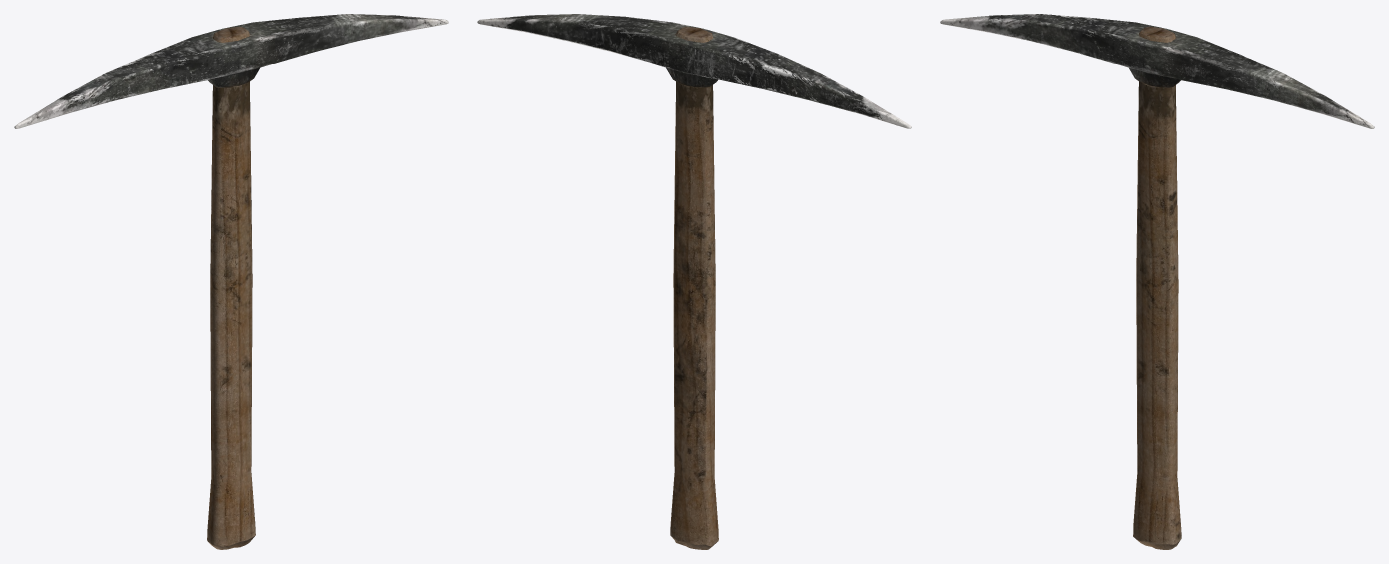
The model's file is basicpickaxe_fbx.glb.
3 renders of one model, left to right at view 1: azimuth 30°, elevation 25°; view 2: azimuth 150°, elevation 25°; view 3: azimuth 330°, elevation 25°, orthographic.
Visible parts, largest first — view 1: BasicPickaxe_LOD0; view 2: BasicPickaxe_LOD0; view 3: BasicPickaxe_LOD0.
Boxes of the visible parts, box(x1,y1,x2,y2) form: BasicPickaxe_LOD0: box(14, 14, 448, 549); BasicPickaxe_LOD0: box(477, 14, 911, 549); BasicPickaxe_LOD0: box(940, 14, 1374, 549).
Size of what is drawn, in the model's own units: 0.4328 by 0.4889 by 0.0368.
Materials: 1 (1 with a texture image).
